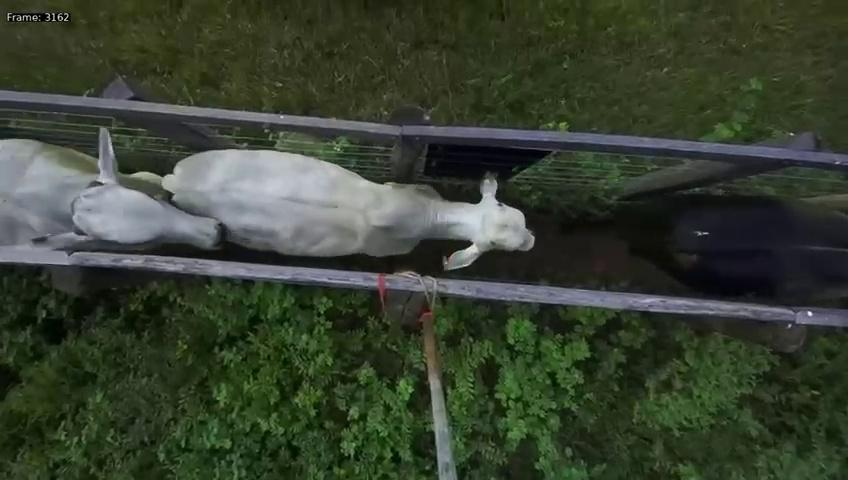cattle: (160, 124, 541, 271)
